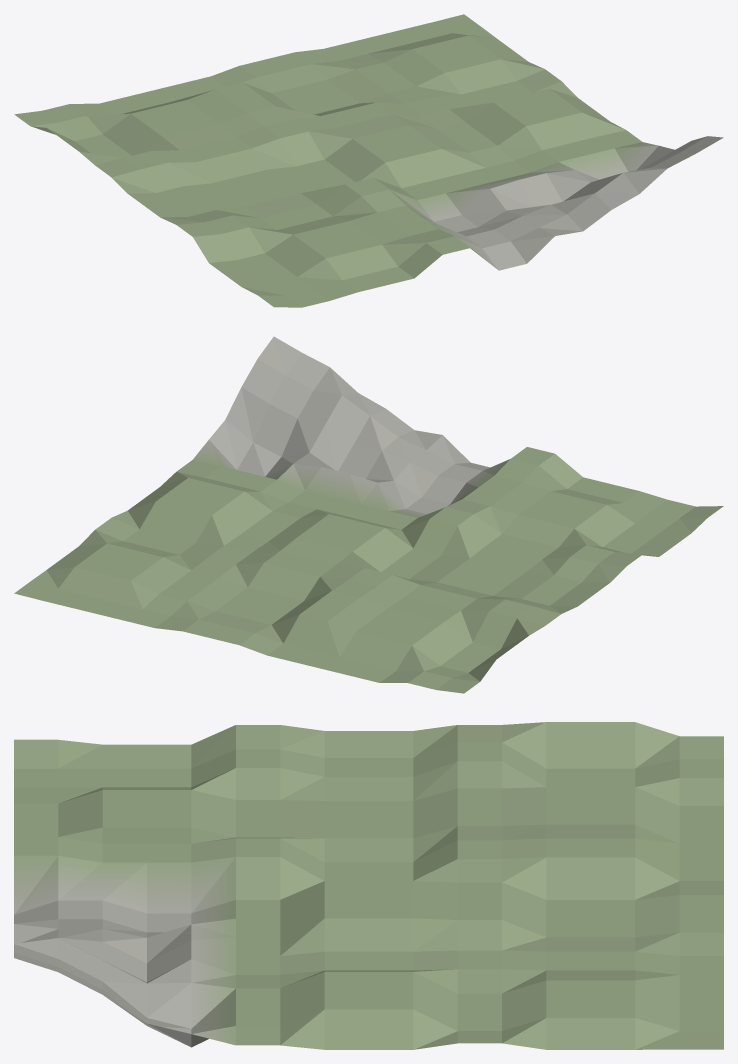
3 renders of one model, top to bottom at view 1: azimuth 30°, elevation 25°; view 2: azimuth 150°, elevation 25°; view 3: azimuth 270°, elevation 25°, orthographic. The views are drawn at different scales.
Bounding box in the file's own units: 32 × 5.38 × 32.
